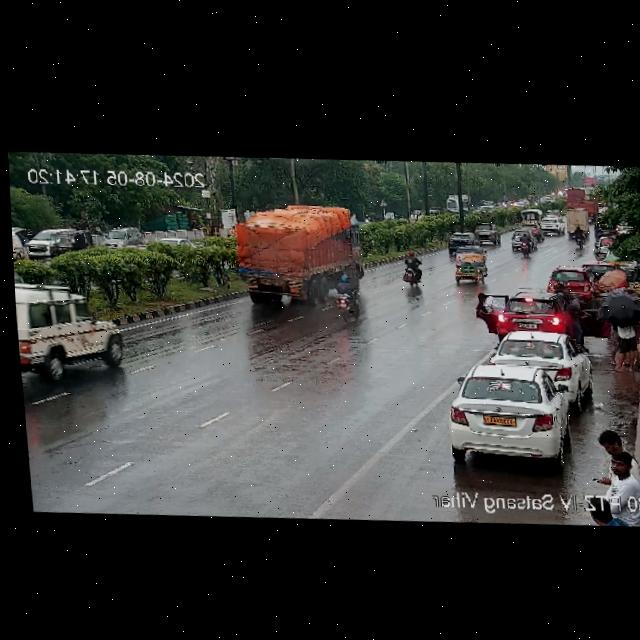car: (439, 356, 590, 469), (17, 276, 127, 379), (491, 328, 593, 394), (486, 288, 579, 337), (45, 225, 96, 259), (546, 265, 595, 298), (446, 247, 486, 284), (102, 225, 139, 249), (24, 228, 49, 260), (471, 222, 503, 245), (443, 230, 480, 248), (533, 217, 562, 235), (516, 209, 542, 227), (162, 235, 192, 247), (511, 229, 521, 250), (545, 207, 559, 218)
motorcycle: (329, 271, 363, 322), (395, 251, 430, 289), (570, 226, 585, 246), (518, 233, 531, 256), (413, 209, 420, 221)
person: (589, 455, 640, 526), (606, 317, 640, 372), (596, 426, 628, 455), (567, 291, 590, 323), (603, 262, 627, 291), (475, 290, 502, 311)
truck: (225, 197, 372, 311), (560, 185, 598, 212), (442, 193, 477, 216), (562, 207, 591, 229)
